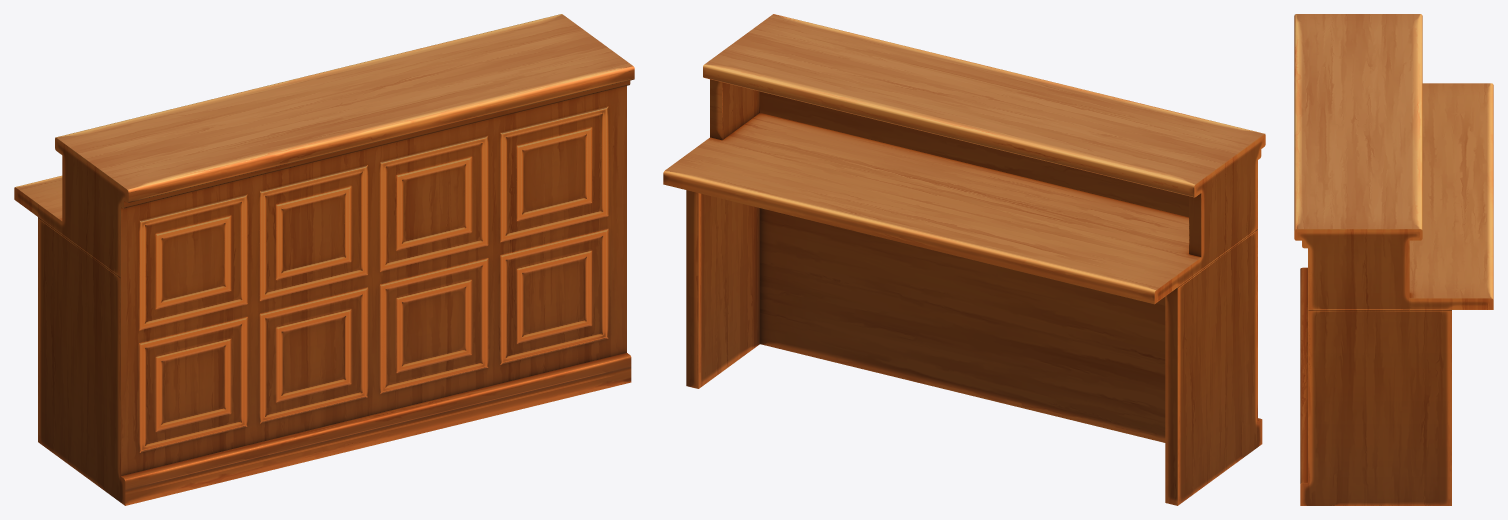
The model's file is OfficeReception01_1.FBX.
The picture shows the model from 3 angles, left to right: view 1: azimuth 30°, elevation 25°; view 2: azimuth 150°, elevation 25°; view 3: azimuth 270°, elevation 25°; orthographic projection. The views are drawn at different scales.
Visible parts, largest first — view 1: OfficeReception01_1; view 2: OfficeReception01_1; view 3: OfficeReception01_1.
Part boxes in pixels (x1=…): OfficeReception01_1: x1=14, y1=14, x2=634, y2=505; OfficeReception01_1: x1=663, y1=14, x2=1265, y2=505; OfficeReception01_1: x1=1294, y1=14, x2=1493, y2=505.
Size of what is drawn, in the model's own units: 2 by 1.2 by 0.7825.
